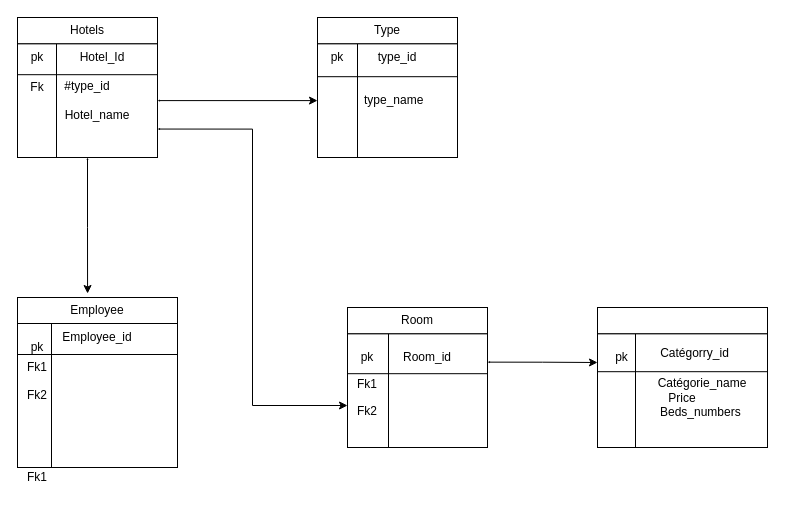
The diagram is 785 pixels wide and 505 high, and some of its shapes have lost their labels. The shapes that lost their labels are listed below. From the top down, each one's box as (x1, y1, x2, y2) in pixels, then its label:
(596, 306, 768, 334): Catégories
(16, 322, 178, 468): #Hotels_id #leads_id Employee_name Employee_speciality
(346, 333, 488, 448): #Hotel_id #Catégorie_id Floor
